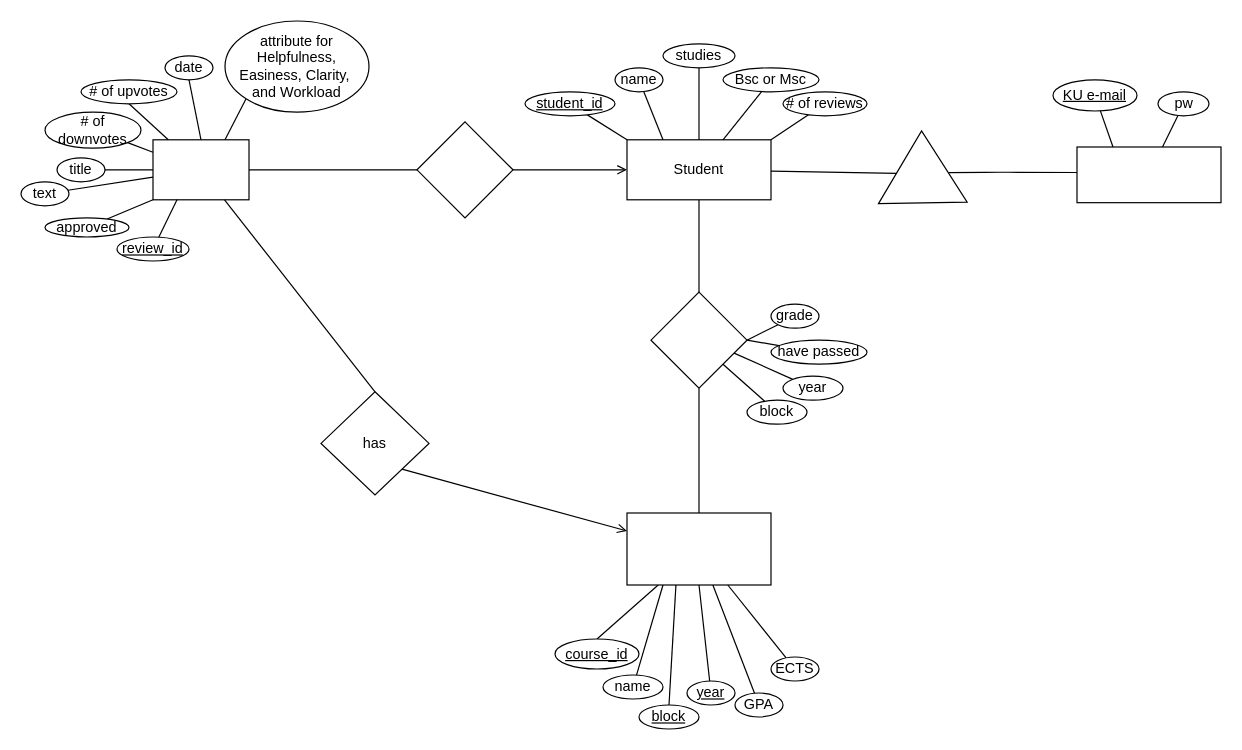
Image size: 1242x750. Some labels were removed from this diagram. The shapes that lost their labels are listed below. From the top down, each one's box as (x1, y1, x2, y2) in pixels, then its label:
(152, 139, 249, 200): Review
(416, 121, 513, 218): writes
(876, 129, 967, 204): IS A
(1076, 146, 1221, 203): User
(650, 291, 747, 388): attended
(626, 512, 771, 585): Course
